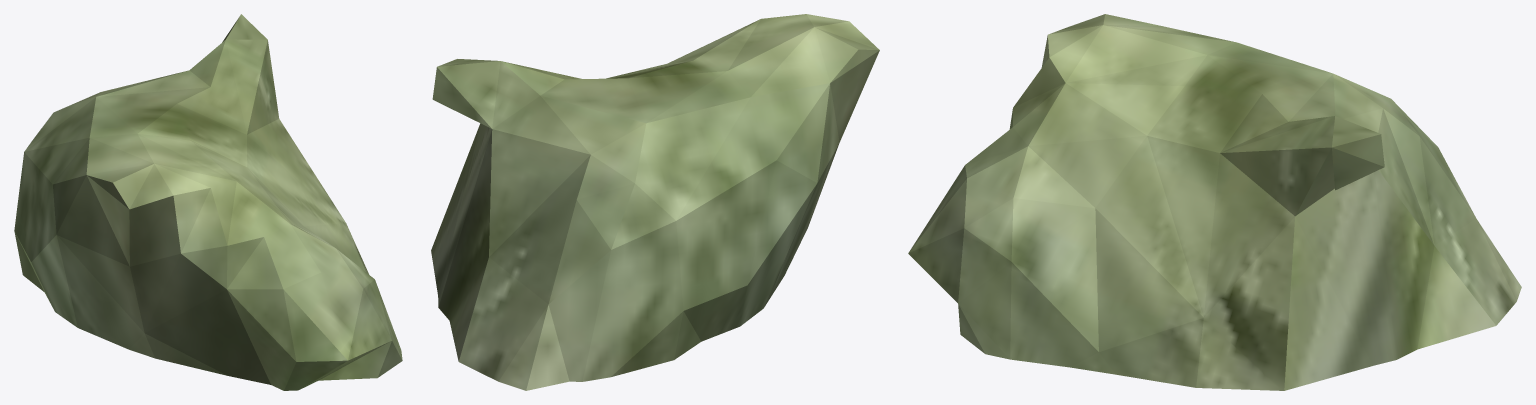
3 views of the same model, side by side, from view 1: azimuth 30°, elevation 25°; view 2: azimuth 150°, elevation 25°; view 3: azimuth 270°, elevation 25° (orthographic). The views are drawn at different scales.
Bounding box in the file's own units: 0.6674 × 0.4275 × 1.03.
Materials: 1 (1 with a texture image).
